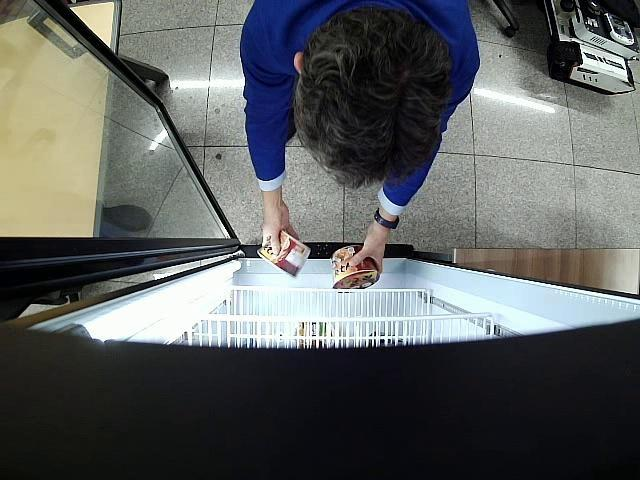05_nuguri_L: (257, 230, 311, 278), (331, 247, 380, 289)
